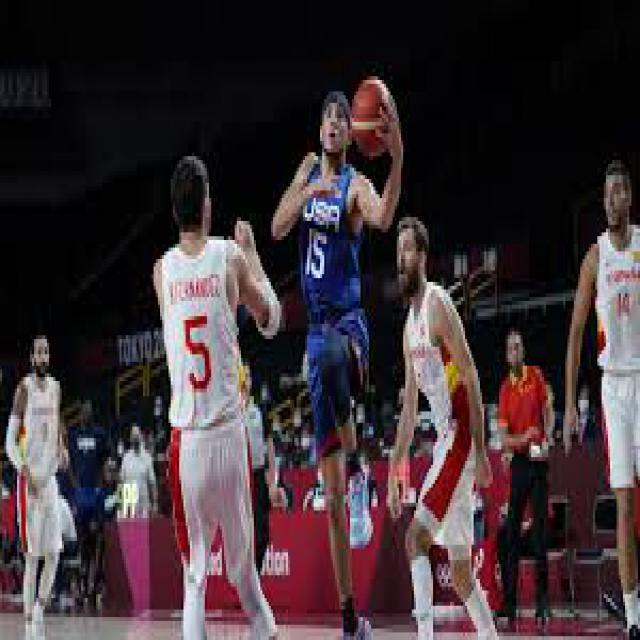basketball: (352, 76, 395, 164)
